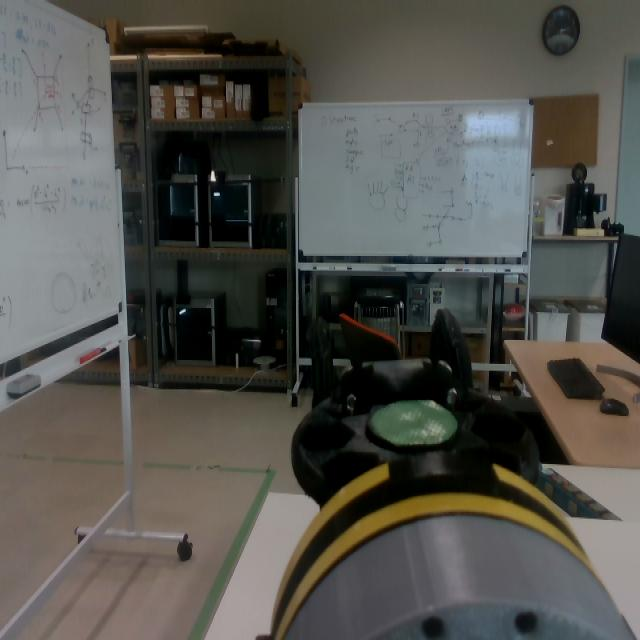body_connector: (278, 520, 638, 640)
connection: (270, 452, 632, 640)
leg: (254, 309, 595, 640)
leg_connector: (271, 449, 593, 640)
marker: (369, 397, 460, 449)
